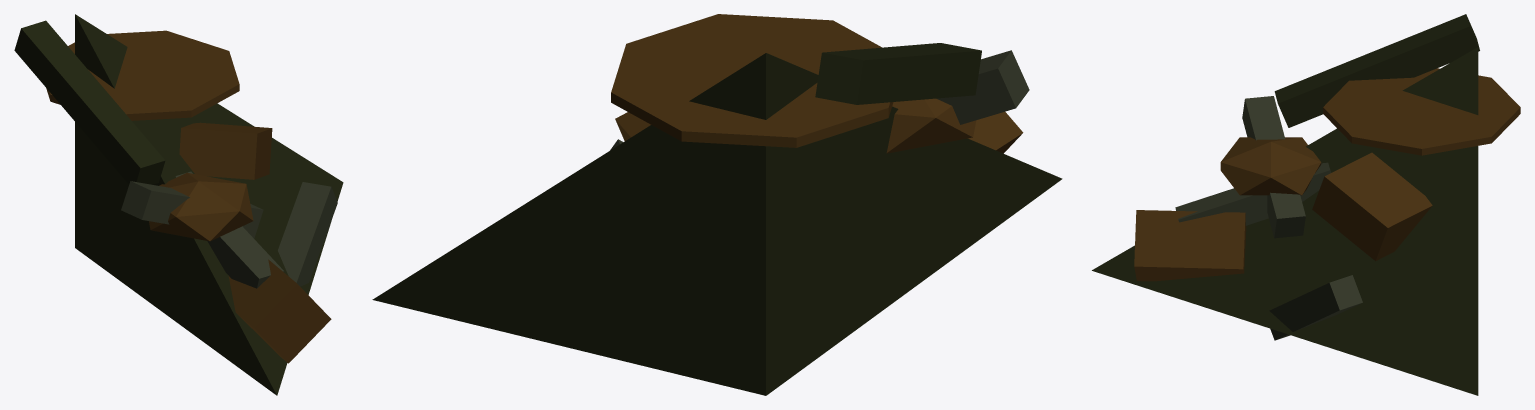
Rendered from SM_PilaZombi_RemateDer_Altura1_s2_LOD1.fbx.
3 views of the same model, side by side, from view 1: azimuth 30°, elevation 25°; view 2: azimuth 150°, elevation 25°; view 3: azimuth 270°, elevation 25° (orthographic). The views are drawn at different scales.
Visible parts, largest first — view 1: SM_pila_zombis_v10_LOD1; view 2: SM_pila_zombis_v10_LOD1; view 3: SM_pila_zombis_v10_LOD1.
Boxes of the visible parts, x1,y1,x2,y2 form: SM_pila_zombis_v10_LOD1: (14,14,343,395); SM_pila_zombis_v10_LOD1: (372,14,1062,395); SM_pila_zombis_v10_LOD1: (1092,14,1520,395).
Size of the model in its own units: 1.48 by 1.09 by 1.74.
